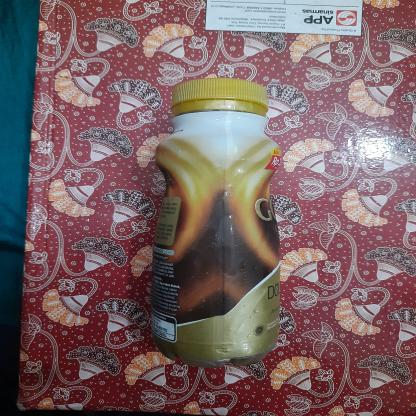plastic: (142, 75, 286, 372)
